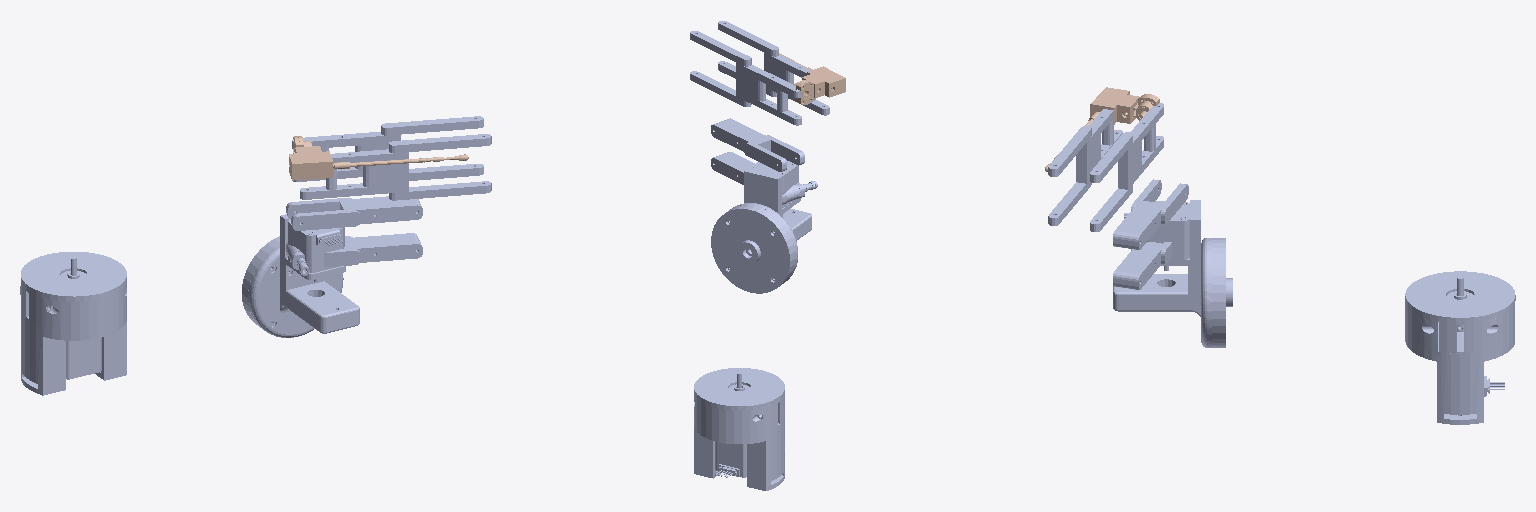
The robot description file, URDF, robot "rcm":
<?xml version="1.0" encoding="utf-8"?>
<!-- This URDF was automatically created by SolidWorks to URDF Exporter! Originally created by [author] ([email redacted]) 
     Commit Version: 1.6.0-1-g15f4949  Build Version: 1.6.7594.29634
     For more information, please see http://wiki.ros.org/sw_urdf_exporter -->
<robot
  name="rcm">
  <link
    name="base_link">
    <inertial>
      <origin
        xyz="0.1095 0.10854 0.21101"
        rpy="0 0 0" />
      <mass
        value="0.54888" />
      <inertia
        ixx="0.00064416"
        ixy="-1.873E-09"
        ixz="1.3334E-09"
        iyy="0.00063919"
        iyz="-1.4584E-09"
        izz="0.00051158" />
    </inertial>
    <visual>
      <origin
        xyz="0 0 0"
        rpy="0 0 0" />
      <geometry>
        <mesh
          filename="package://rcm/meshes/base_link.STL" />
      </geometry>
      <material
        name="">
        <color
          rgba="0.79216 0.81961 0.93333 1" />
      </material>
    </visual>
    <collision>
      <origin
        xyz="0 0 0"
        rpy="0 0 0" />
      <geometry>
        <mesh
          filename="package://rcm/meshes/base_link.STL" />
      </geometry>
    </collision>
  </link>
  <link
    name="Link1">
    <inertial>
      <origin
        xyz="0.016647 0.037777 0.0058834"
        rpy="0 0 0" />
      <mass
        value="0.34082" />
      <inertia
        ixx="0.0002515"
        ixy="2.7548E-06"
        ixz="3.4909E-06"
        iyy="0.00025121"
        iyz="9.7361E-07"
        izz="0.00024286" />
    </inertial>
    <visual>
      <origin
        xyz="0 0 0"
        rpy="0 0 0" />
      <geometry>
        <mesh
          filename="package://rcm/meshes/Link1.STL" />
      </geometry>
      <material
        name="">
        <color
          rgba="0.79216 0.81961 0.93333 1" />
      </material>
    </visual>
    <collision>
      <origin
        xyz="0 0 0"
        rpy="0 0 0" />
      <geometry>
        <mesh
          filename="package://rcm/meshes/Link1.STL" />
      </geometry>
    </collision>
  </link>
  <joint
    name="Link1_joint"
    type="revolute">
    <origin
      xyz="0.10907 -0.21102 0.14956"
      rpy="1.5708 0 0" />
    <parent
      link="base_link" />
    <child
      link="Link1" />
    <axis
      xyz="0 0 0" />
    <limit
      lower="-1.57"
      upper="1.57"
      effort="1000"
      velocity="0.2" />
  </joint>
  <link
    name="Link2_1">
    <inertial>
      <origin
        xyz="0.00044718 0.0075 -0.0019869"
        rpy="0 0 0" />
      <mass
        value="0.044237" />
      <inertia
        ixx="3.8711E-05"
        ixy="1.2118E-14"
        ixz="2.5464E-10"
        iyy="4.1666E-05"
        iyz="1.4076E-10"
        izz="4.5719E-06" />
    </inertial>
    <visual>
      <origin
        xyz="0 0 0"
        rpy="0 0 0" />
      <geometry>
        <mesh
          filename="package://rcm/meshes/Link2_1.STL" />
      </geometry>
      <material
        name="">
        <color
          rgba="0.79216 0.81961 0.93333 1" />
      </material>
    </visual>
    <collision>
      <origin
        xyz="0 0 0"
        rpy="0 0 0" />
      <geometry>
        <mesh
          filename="package://rcm/meshes/Link2_1.STL" />
      </geometry>
    </collision>
  </link>
  <joint
    name="Link2_1_joint"
    type="revolute">
    <origin
      xyz="-0.0189 0.0526 0.053776"
      rpy="0 -0.33972 0" />
    <parent
      link="Link1" />
    <child
      link="Link2_1" />
    <axis
      xyz="0 0 0" />
    <limit
      lower="-1.57"
      upper="1.57"
      effort="1000"
      velocity="0.2" />
    <mimic
      joint="Link2_1_joint"
      multiplier="1"
      offset="0" />
  </joint>
  <link
    name="Link3_1">
    <inertial>
      <origin
        xyz="0 0.005 0.016549"
        rpy="0 0 0" />
      <mass
        value="0.043996" />
      <inertia
        ixx="8.7267E-05"
        ixy="6.7763E-21"
        ixz="4.3902E-20"
        iyy="0.00010124"
        iyz="-5.9436E-20"
        izz="1.4695E-05" />
    </inertial>
    <visual>
      <origin
        xyz="0 0 0"
        rpy="0 0 0" />
      <geometry>
        <mesh
          filename="package://rcm/meshes/Link3_1.STL" />
      </geometry>
      <material
        name="">
        <color
          rgba="0.79216 0.81961 0.93333 1" />
      </material>
    </visual>
    <collision>
      <origin
        xyz="0 0 0"
        rpy="0 0 0" />
      <geometry>
        <mesh
          filename="package://rcm/meshes/Link3_1.STL" />
      </geometry>
    </collision>
  </link>
  <joint
    name="Link3_1_joint"
    type="revolute">
    <origin
      xyz="0.0001 0.103 0.01"
      rpy="1.5708 0 0" />
    <parent
      link="Link2_1" />
    <child
      link="Link3_1" />
    <axis
      xyz="0 0 0" />
    <limit
      lower="-1.57"
      upper="1.57"
      effort="1000"
      velocity="0.2" />
  </joint>
  <link
    name="Link_ee">
    <inertial>
      <origin
        xyz="3.4616E-06 -0.018493 0.026995"
        rpy="0 0 0" />
      <mass
        value="0.092307" />
      <inertia
        ixx="9.4065E-05"
        ixy="-6.6218E-13"
        ixz="-2.0226E-10"
        iyy="9.6059E-05"
        iyz="1.8139E-07"
        izz="1.7415E-05" />
    </inertial>
    <visual>
      <origin
        xyz="0 0 0"
        rpy="0 0 0" />
      <geometry>
        <mesh
          filename="package://rcm/meshes/Link_ee.STL" />
      </geometry>
      <material
        name="">
        <color
          rgba="0.84314 0.81569 0.75294 1" />
      </material>
    </visual>
    <collision>
      <origin
        xyz="0 0 0"
        rpy="0 0 0" />
      <geometry>
        <mesh
          filename="package://rcm/meshes/Link_ee.STL" />
      </geometry>
    </collision>
  </link>
  <joint
    name="Link_ee_joint"
    type="revolute">
    <origin
      xyz="0.0005 0.02 -0.068"
      rpy="-1.5708 0 0" />
    <parent
      link="Link3_1" />
    <child
      link="Link_ee" />
    <axis
      xyz="0 0 0" />
    <limit
      lower="-1.57"
      upper="1.57"
      effort="1000"
      velocity="0.2" />
  </joint>
  <link
    name="Link_E">
    <inertial>
      <origin
        xyz="-0.0057317 0.048346 3.8622E-05"
        rpy="0 0 0" />
      <mass
        value="0.023256" />
      <inertia
        ixx="1.8707E-06"
        ixy="-8.174E-10"
        ixz="1.1527E-08"
        iyy="2.085E-06"
        iyz="-7.1419E-09"
        izz="2.7906E-06" />
    </inertial>
    <visual>
      <origin
        xyz="0 0 0"
        rpy="0 0 0" />
      <geometry>
        <mesh
          filename="package://rcm/meshes/Link_E.STL" />
      </geometry>
      <material
        name="">
        <color
          rgba="0.89412 0.79216 0.73333 1" />
      </material>
    </visual>
    <collision>
      <origin
        xyz="0 0 0"
        rpy="0 0 0" />
      <geometry>
        <mesh
          filename="package://rcm/meshes/Link_E.STL" />
      </geometry>
    </collision>
  </link>
  <joint
    name="Link_E_joint"
    type="prismatic">
    <origin
      xyz="0 -0.053 -0.01"
      rpy="3.1416 -1.5708 0" />
    <parent
      link="Link_ee" />
    <child
      link="Link_E" />
    <axis
      xyz="0 0 0" />
    <limit
      lower="0"
      upper="0.08"
      effort="1000"
      velocity="0.2" />
  </joint>
  <link
    name="Link3_2">
    <inertial>
      <origin
        xyz="0 0.005 0.016549"
        rpy="0 0 0" />
      <mass
        value="0.043996" />
      <inertia
        ixx="8.7267E-05"
        ixy="1.1858E-20"
        ixz="4.5015E-20"
        iyy="0.00010124"
        iyz="-2.1834E-19"
        izz="1.4695E-05" />
    </inertial>
    <visual>
      <origin
        xyz="0 0 0"
        rpy="0 0 0" />
      <geometry>
        <mesh
          filename="package://rcm/meshes/Link3_2.STL" />
      </geometry>
      <material
        name="">
        <color
          rgba="0.79216 0.81961 0.93333 1" />
      </material>
    </visual>
    <collision>
      <origin
        xyz="0 0 0"
        rpy="0 0 0" />
      <geometry>
        <mesh
          filename="package://rcm/meshes/Link3_2.STL" />
      </geometry>
    </collision>
  </link>
  <joint
    name="Link3_2_joint"
    type="revolute">
    <origin
      xyz="0.0001 0.103 0.05"
      rpy="1.5708 0 0" />
    <parent
      link="Link2_1" />
    <child
      link="Link3_2" />
    <axis
      xyz="0 0 0" />
    <limit
      lower="-1.57"
      upper="1.57"
      effort="1000"
      velocity="0.2" />
    <mimic
      joint="Link3_1_joint"
      multiplier="1"
      offset="0" />
  </joint>
  <link
    name="Link2_2">
    <inertial>
      <origin
        xyz="2.7756E-17 0.0075 0.0048895"
        rpy="0 0 0" />
      <mass
        value="0.039322" />
      <inertia
        ixx="4.3641E-05"
        ixy="-2.021E-22"
        ixz="-1.6411E-20"
        iyy="4.6463E-05"
        iyz="-5.7105E-19"
        izz="4.29E-06" />
    </inertial>
    <visual>
      <origin
        xyz="0 0 0"
        rpy="0 0 0" />
      <geometry>
        <mesh
          filename="package://rcm/meshes/Link2_2.STL" />
      </geometry>
      <material
        name="">
        <color
          rgba="0.79216 0.81961 0.93333 1" />
      </material>
    </visual>
    <collision>
      <origin
        xyz="0 0 0"
        rpy="0 0 0" />
      <geometry>
        <mesh
          filename="package://rcm/meshes/Link2_2.STL" />
      </geometry>
    </collision>
  </link>
  <joint
    name="Link2_2_joint"
    type="revolute">
    <origin
      xyz="-0.0189 0.0926 0.053776"
      rpy="0 -0.33972 0" />
    <parent
      link="Link1" />
    <child
      link="Link2_2" />
    <axis
      xyz="0 0 0" />
    <limit
      lower="-1.57"
      upper="1.57"
      effort="1000"
      velocity="0.2" />
    <mimic
      joint="Link2_1_joint"
      multiplier="1"
      offset="0" />
  </joint>
</robot>

--- What the picture shows (computed from the rendered views, not written in the file) ---
3 views of the same robot in one strip: view 1: azimuth 30°, elevation 25°; view 2: azimuth 150°, elevation 25°; view 3: azimuth 270°, elevation 25° (orthographic).
Robot: rcm — 8 links, 7 joints (6 revolute, 1 prismatic); root link base_link; default pose: every joint at zero.
Links seen in each view (by area): view 1: base_link, Link1, Link3_2, Link3_1, Link2_2, Link2_1, Link_E; view 2: base_link, Link1, Link3_1, Link2_2, Link3_2, Link_E, Link2_1; view 3: base_link, Link1, Link3_1, Link3_2, Link2_2, Link2_1, Link_E.
Link boxes in pixels (x1,y1,x2,y2): base_link: (20,252,126,395); Link1: (242,214,359,337); Link3_2: (300,134,491,200); Link3_1: (292,116,483,181); Link2_2: (286,196,422,230); Link2_1: (286,233,422,275); Link_E: (289,136,468,180); base_link: (694,368,784,490); Link1: (711,160,811,293); Link3_1: (690,31,801,125); Link2_2: (711,118,804,171); Link3_2: (718,21,829,115); Link_E: (779,53,845,104); Link2_1: (711,152,817,204); base_link: (1405,271,1515,424); Link1: (1113,200,1232,347); Link3_1: (1090,103,1163,231); Link3_2: (1048,109,1122,225); Link2_2: (1113,179,1188,249); Link2_1: (1113,242,1171,289); Link_E: (1045,87,1159,171).
Size in the robot's own frame: 0.3026 by 0.427 by 0.344 metres.
Meshes: 8 distinct files referenced, 7 mesh visuals loaded (7 binary STL); not drawn: 1 (reference not matched to a file when rendering).